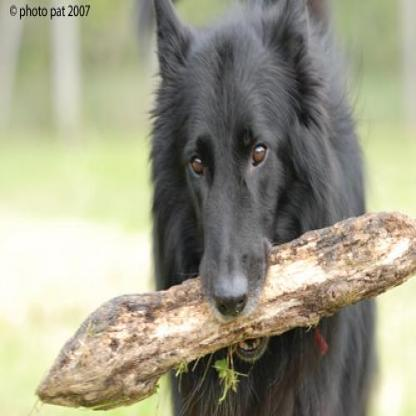groenendael: (143, 0, 384, 414)
